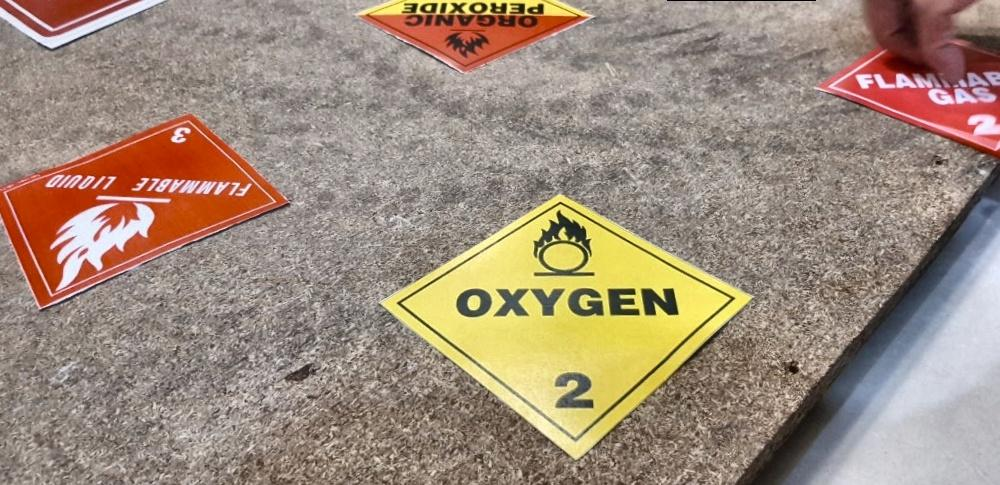flammable: (1, 115, 286, 311), (816, 30, 1000, 166)
organic-peroxide: (352, 1, 604, 74)
oxidizer: (371, 192, 757, 464)
